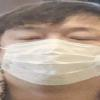mask: (0, 42, 100, 86)
